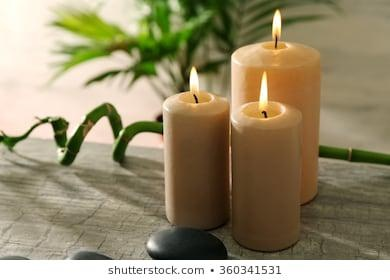fire: (269, 4, 283, 46), (186, 63, 203, 95), (257, 69, 269, 111)
